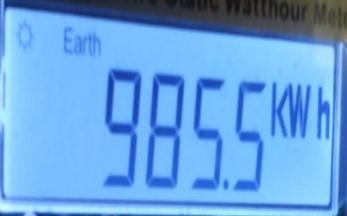.: (269, 79, 331, 140)
0: (222, 178, 231, 191)
6: (191, 74, 223, 190), (234, 79, 267, 191)
9: (145, 68, 187, 189)
:: (104, 67, 143, 189)
